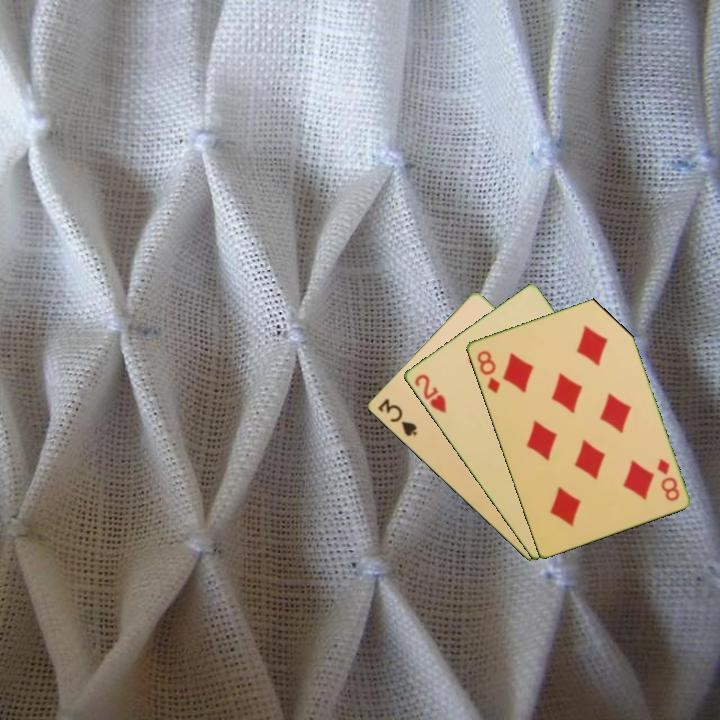2h: (410, 370, 449, 416)
3s: (374, 395, 420, 439)
8d: (473, 347, 502, 396), (653, 455, 682, 504)
